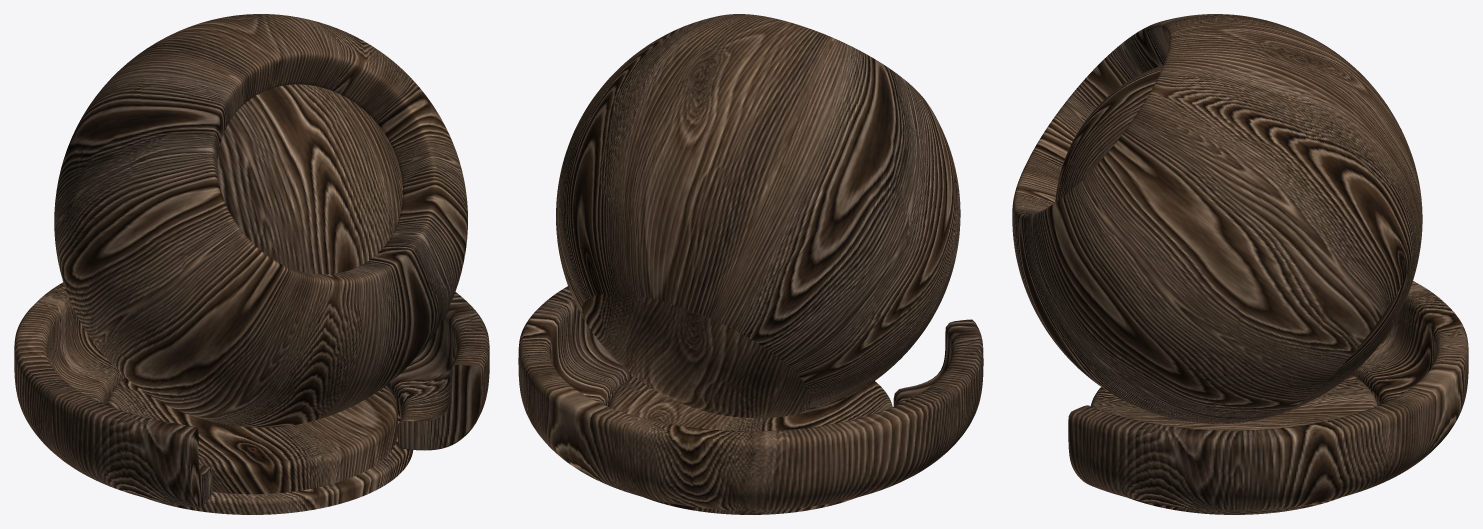
File: Canyon_Maple_Dark_Wood_gltf_pbr_baked.mtlx.gltf
3 views of the same model, side by side, from view 1: azimuth 30°, elevation 25°; view 2: azimuth 150°, elevation 25°; view 3: azimuth 270°, elevation 25° (orthographic). The views are drawn at different scales.
Visible parts, largest first — view 1: Preview_Mesh, Calibration_Mesh; view 2: Preview_Mesh, Calibration_Mesh; view 3: Preview_Mesh, Calibration_Mesh.
Part boxes in pixels (bbox=[...]): Preview_Mesh: bbox=[14, 14, 489, 507]; Calibration_Mesh: bbox=[106, 84, 413, 514]; Preview_Mesh: bbox=[518, 14, 983, 510]; Calibration_Mesh: bbox=[609, 376, 892, 514]; Preview_Mesh: bbox=[1012, 14, 1468, 510]; Calibration_Mesh: bbox=[1055, 65, 1377, 514].
Size of the model in its own units: 2.14 by 2.09 by 2.08.
Materials: 1 (1 with a texture image).
